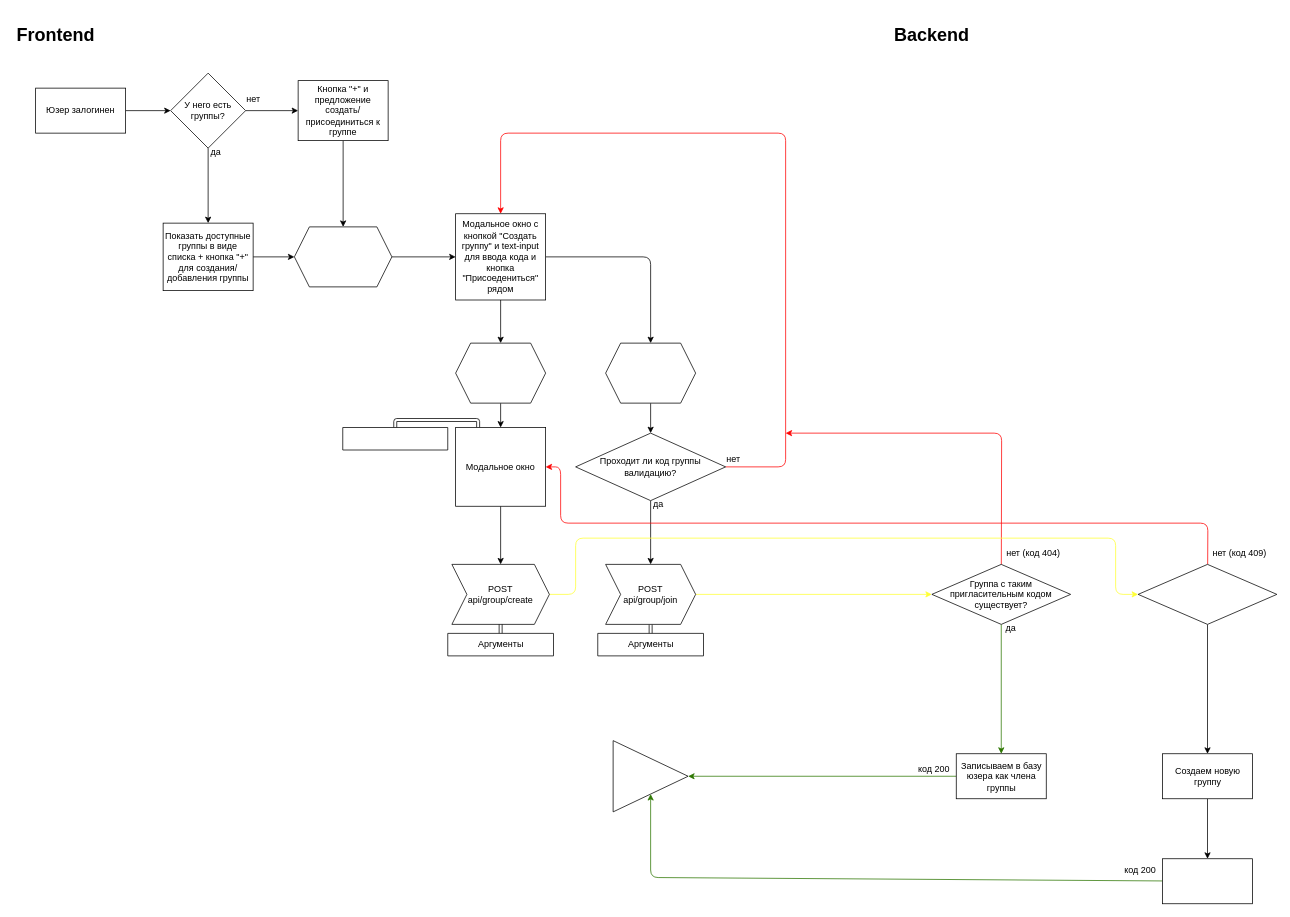
Some shapes in this 1290 by 917 pixel diagram are drawn without their labels. Here are the shapes that lost their labels. From the top down, the centre of each, then its label:
(343,256): Нажата кнопка "+"
(500,372): Кнопка "Создать группу"
(650,372): Кнопка "Присоединиться"
(395,438): Окно
(1207,594): Проходят ли данные валидацию?
(650,776): Перезагрузка страницы
(1207,881): Назначаем юзера членом и админом группы
